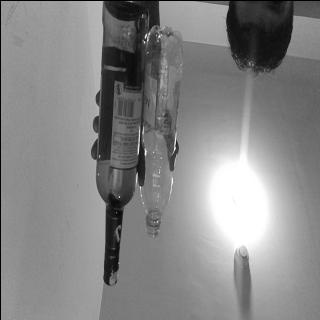objects: (95, 0, 149, 286)
plastic_bottles: (138, 25, 184, 242)
